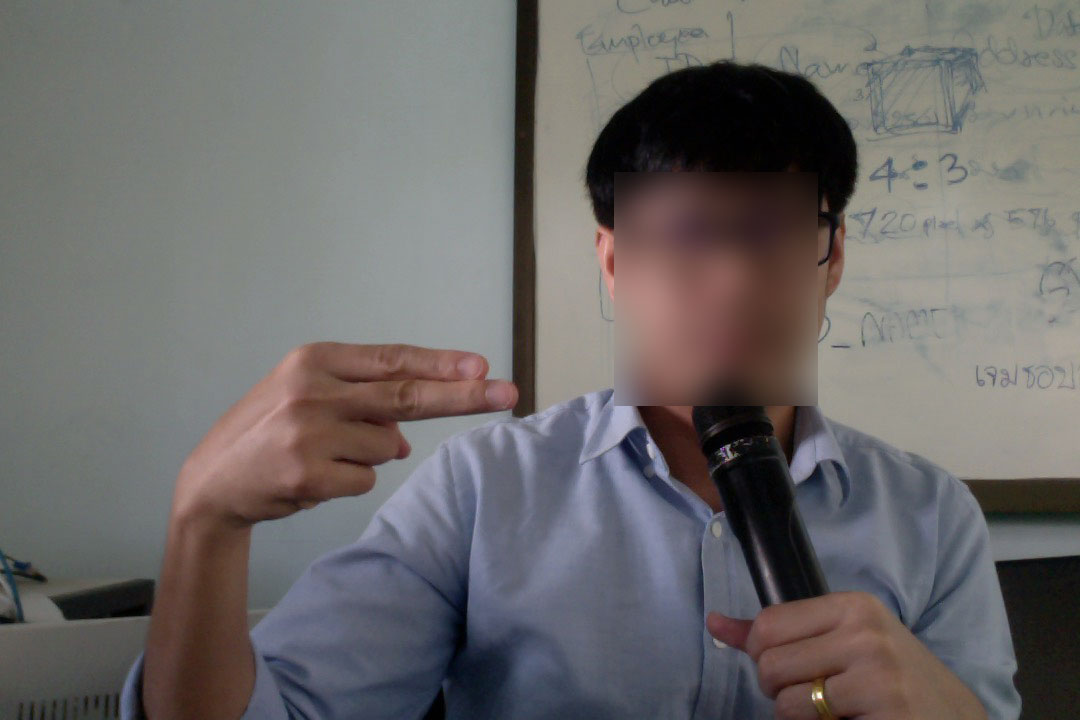hor: (164, 333, 529, 538)
